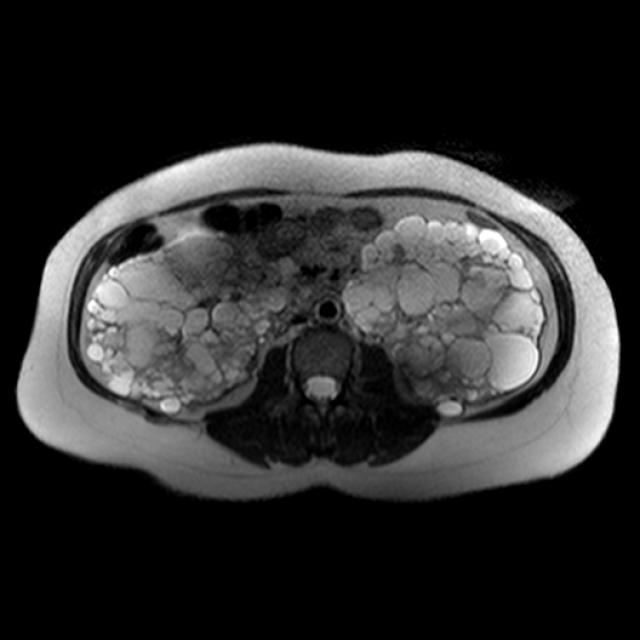sag: (82, 230, 313, 416)
sol: (341, 213, 551, 416)
